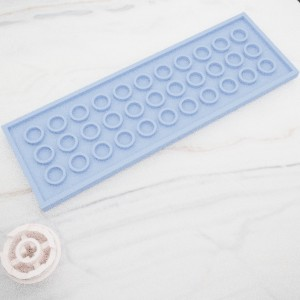lego: (0, 11, 300, 212), (0, 223, 60, 283)
